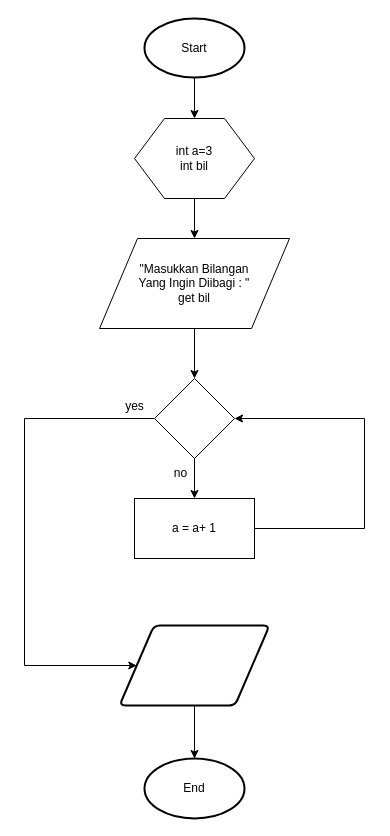
This 390x836 diagram has some shape labels left out. Each missing label, with the box of its shape:
"Bilangan Pembagi Terkecil dari "+bil+"adalah"+a: (118, 624, 270, 706)
bil%a==0: (154, 378, 234, 458)
